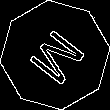M_SE: (21, 22, 89, 88)
